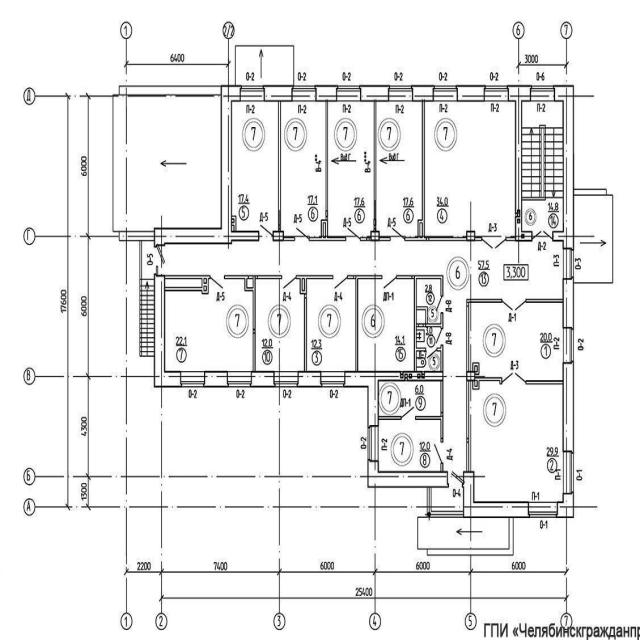Bathrooms: (418, 280, 440, 323), (417, 352, 440, 371), (418, 329, 440, 348)
Corridors: (158, 242, 562, 371), (469, 304, 563, 379), (443, 381, 466, 470)
Doors: (501, 297, 527, 315), (481, 235, 507, 252), (501, 371, 527, 385), (259, 220, 272, 241), (381, 274, 398, 290), (345, 225, 362, 241), (154, 246, 167, 266), (448, 471, 463, 488), (281, 274, 296, 290), (390, 225, 405, 241), (532, 229, 552, 241), (433, 442, 444, 463), (333, 273, 347, 289), (443, 372, 467, 381), (295, 226, 309, 241), (210, 275, 223, 291), (425, 348, 440, 360), (401, 407, 414, 420), (435, 297, 442, 314), (436, 328, 443, 345)
LBwalls: (154, 85, 241, 247), (153, 273, 182, 388), (554, 84, 574, 250), (463, 470, 529, 517), (367, 459, 449, 488), (345, 371, 379, 428), (563, 361, 574, 454), (379, 371, 444, 381), (563, 277, 574, 330), (359, 84, 390, 102), (456, 85, 485, 102), (263, 85, 294, 100), (557, 493, 574, 518), (251, 371, 276, 388), (204, 370, 229, 387), (297, 371, 322, 387), (507, 85, 532, 101), (412, 85, 434, 102), (315, 85, 338, 101), (232, 230, 259, 242), (466, 231, 476, 242), (370, 231, 380, 242), (273, 230, 283, 241), (467, 371, 475, 381)
Offices: (424, 102, 515, 235), (471, 383, 563, 501), (166, 279, 252, 370), (376, 102, 422, 237), (328, 102, 373, 235), (281, 101, 325, 237), (232, 102, 278, 230), (359, 280, 413, 370), (256, 278, 303, 371), (307, 279, 355, 370), (380, 422, 440, 470), (379, 383, 440, 415)
Stairs: (113, 95, 221, 231), (523, 101, 563, 230), (574, 195, 614, 285), (417, 517, 509, 548), (234, 44, 295, 85), (141, 242, 153, 356)
Walls: (405, 102, 466, 242), (224, 274, 282, 371), (308, 102, 347, 242), (396, 274, 444, 371), (506, 100, 532, 242), (296, 274, 334, 371), (347, 274, 383, 371), (426, 518, 514, 556), (466, 298, 503, 374), (415, 380, 443, 443), (424, 488, 463, 519), (119, 85, 221, 96), (165, 275, 211, 295), (473, 376, 502, 390), (278, 101, 281, 231), (467, 382, 471, 470), (119, 231, 154, 241), (139, 243, 142, 356), (374, 101, 376, 231), (526, 298, 563, 304), (436, 343, 444, 370), (573, 189, 607, 195), (526, 380, 563, 385), (553, 231, 563, 242), (379, 416, 402, 420), (283, 236, 295, 242), (379, 236, 391, 241), (440, 461, 443, 473), (361, 237, 370, 241), (475, 236, 482, 241), (155, 266, 159, 274)
Windows: (528, 501, 558, 519), (563, 452, 574, 493), (368, 426, 379, 462), (240, 86, 265, 101), (563, 328, 574, 362), (337, 85, 360, 101), (389, 85, 412, 101), (485, 86, 508, 102), (531, 85, 554, 101), (275, 371, 297, 387), (322, 371, 344, 387), (434, 85, 457, 100), (181, 371, 204, 386), (228, 371, 251, 386), (293, 86, 315, 101), (563, 248, 574, 278)
